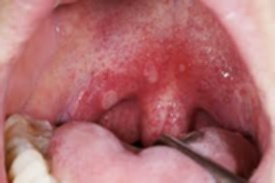Ulcer: (144, 58, 165, 84), (100, 84, 120, 110), (177, 61, 189, 76)
